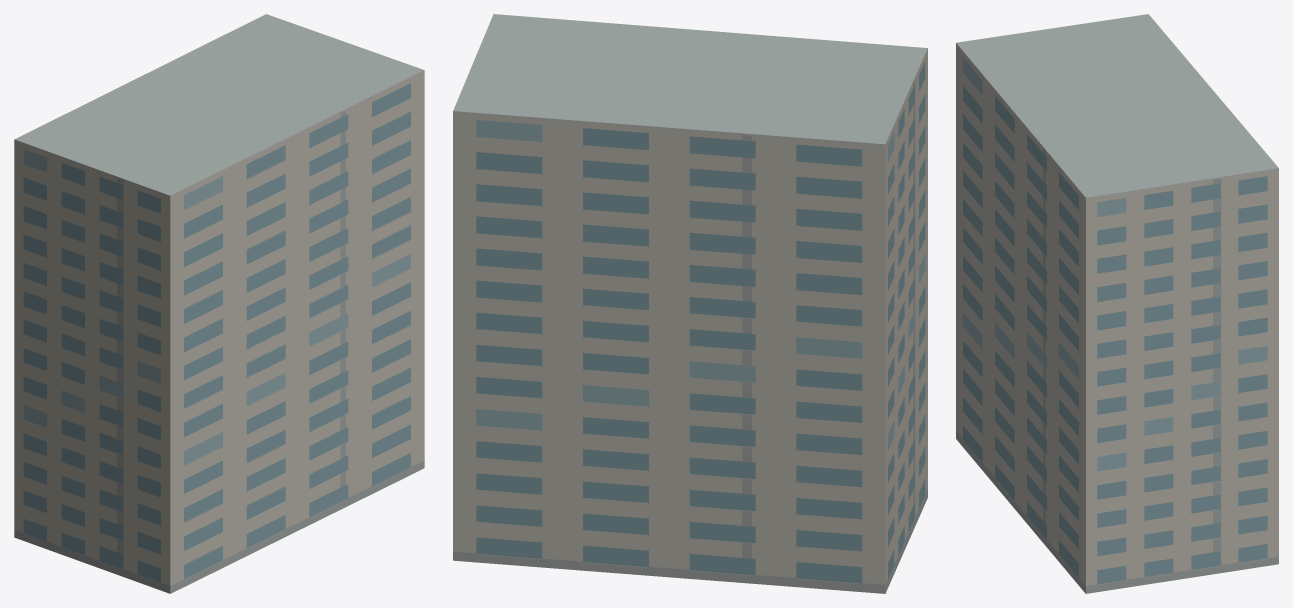
The model's file is survey-upis-32762271.glb.
3 views of the same model, side by side, from view 1: azimuth 30°, elevation 25°; view 2: azimuth 150°, elevation 25°; view 3: azimuth 270°, elevation 25° (orthographic). The views are drawn at different scales.
Visible parts, largest first — view 1: survey-upis-32762271.tmp; view 2: survey-upis-32762271.tmp; view 3: survey-upis-32762271.tmp.
Boxes of the visible parts, bbox=[...] form: survey-upis-32762271.tmp: bbox=[14, 14, 424, 593]; survey-upis-32762271.tmp: bbox=[453, 14, 927, 593]; survey-upis-32762271.tmp: bbox=[956, 14, 1278, 593].
Bounding box in the file's own units: 60.01 × 60.3 × 44.56.
